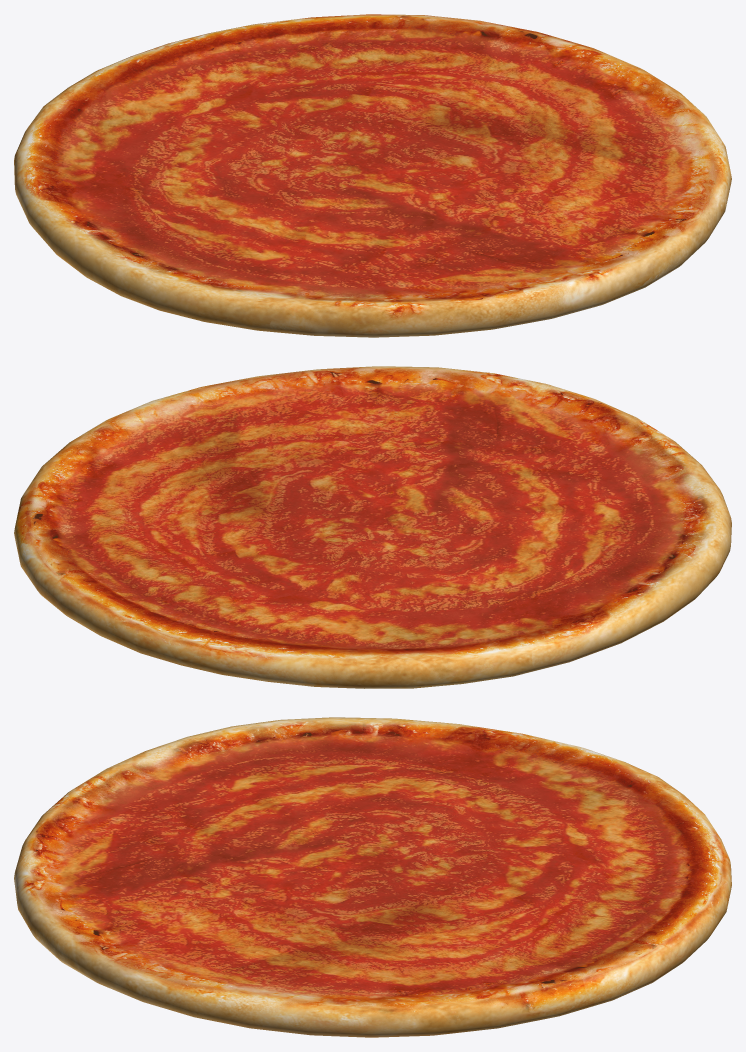
The model's file is pizza bread.fbx.
3 views of the same model, one above another, from view 1: azimuth 30°, elevation 25°; view 2: azimuth 150°, elevation 25°; view 3: azimuth 270°, elevation 25° (orthographic).
Parts seen in each view (by area): view 1: Pizza; view 2: Pizza; view 3: Pizza.
Boxes of the visible parts, x1,y1,x2,y2 form: Pizza: (14,14,731,337); Pizza: (14,366,731,688); Pizza: (14,717,731,1037).
Size of the model in its own units: 56 by 3.03 by 56.56.
